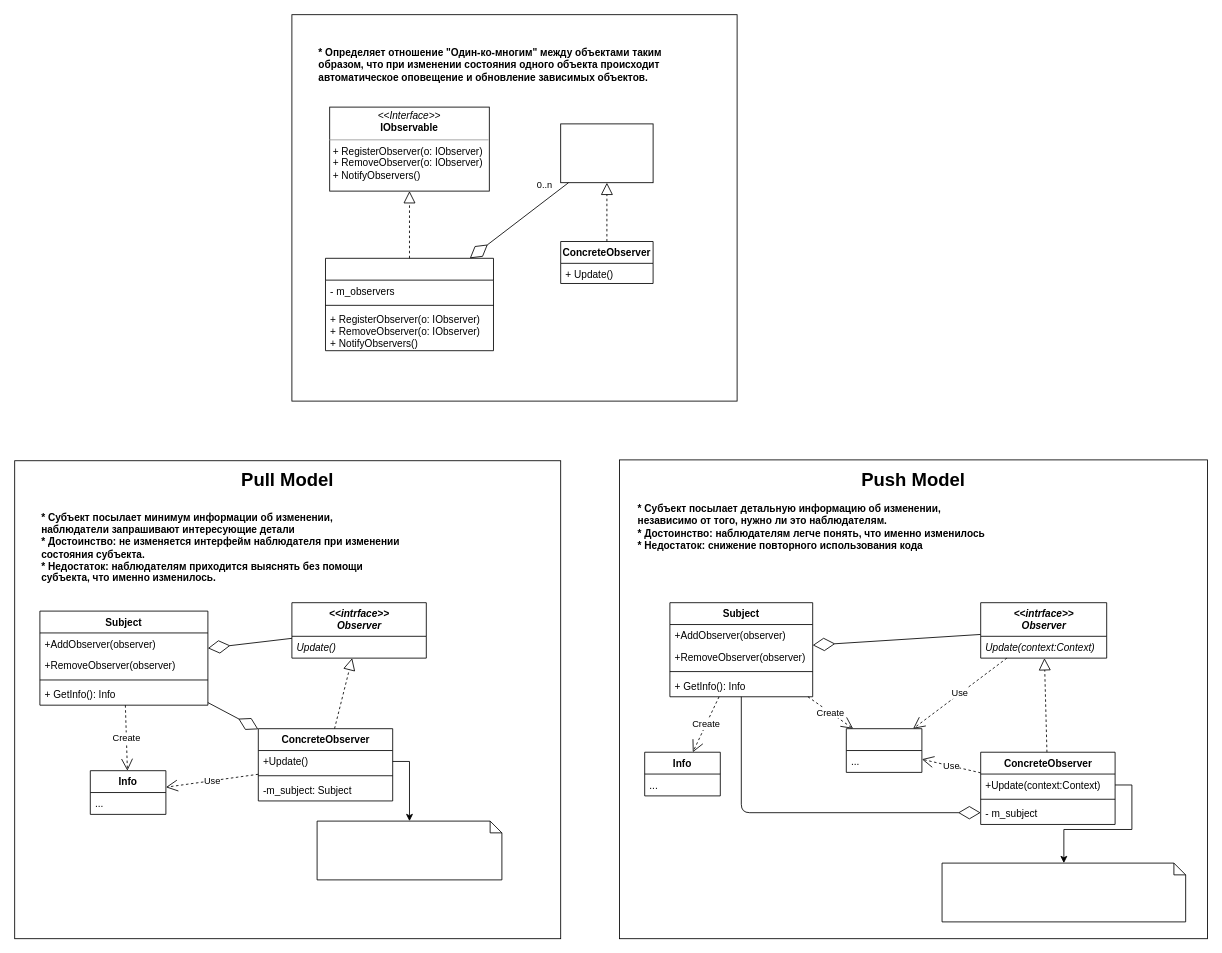
Some shapes in this 1222 by 953 pixel diagram are drawn without their labels. Each missing label, with the box of its shape:
<<Interface>> IObserver + Update(): (560, 123, 653, 183)
ConcreteObservable: (325, 257, 494, 351)
Context: (845, 728, 922, 772)
void ConcreteObserver::Update() { Info info = m_subject.GetInfo(); ... }: (316, 820, 502, 880)
void ConcreteObserver::Update(Context context) { // use context ... }: (941, 862, 1186, 922)
